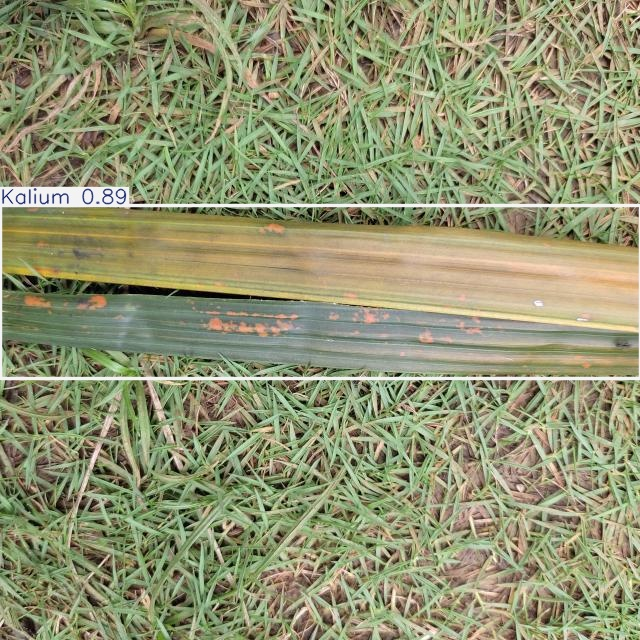Kalium: (0, 206, 640, 378)
